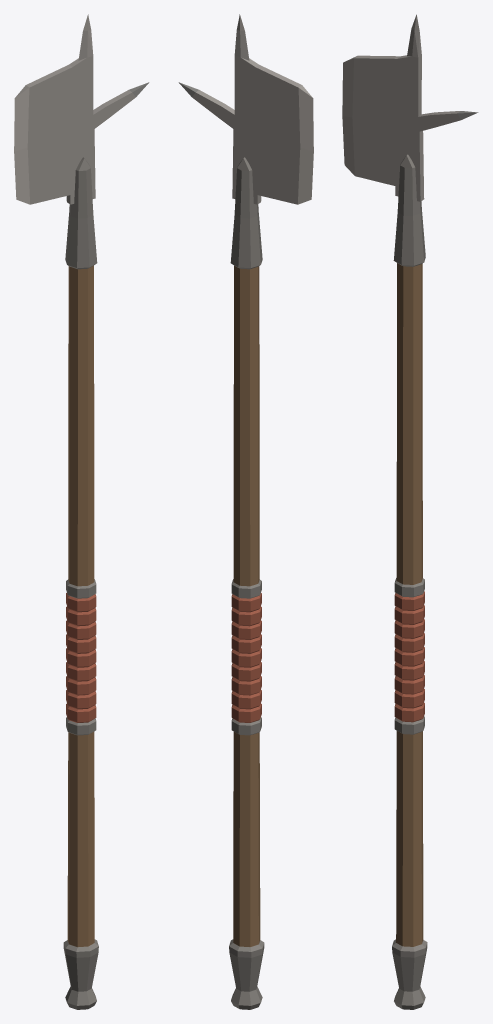
The model's file is SM_pwe_medieval_halberd_06.fbx.
3 renders of one model, left to right at view 1: azimuth 30°, elevation 25°; view 2: azimuth 150°, elevation 25°; view 3: azimuth 330°, elevation 25°, orthographic.
Parts seen in each view (by area): view 1: SM_pwe_medieval_halberd_06; view 2: SM_pwe_medieval_halberd_06; view 3: SM_pwe_medieval_halberd_06.
Boxes of the visible parts, box(x1,y1,x2,y2) form: SM_pwe_medieval_halberd_06: box(14, 14, 149, 1009); SM_pwe_medieval_halberd_06: box(178, 14, 313, 1009); SM_pwe_medieval_halberd_06: box(342, 14, 478, 1009).
Size of the model in its own units: 25.12 by 176 by 5.87.
